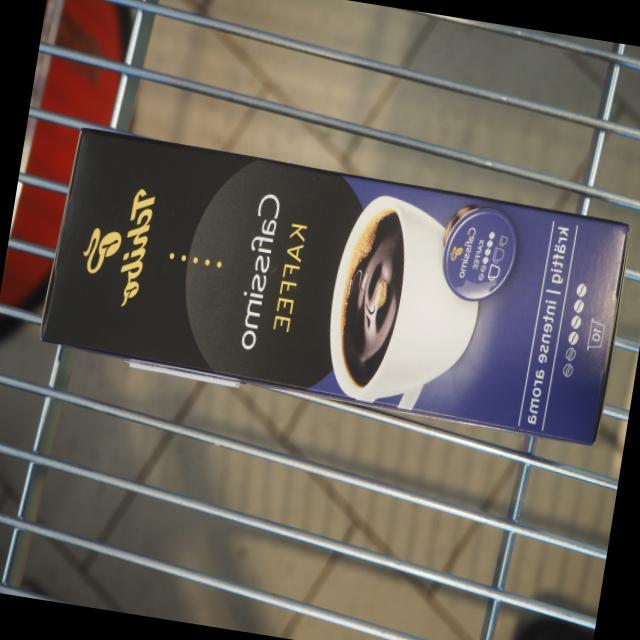Simo Kaffee Kraft: (35, 122, 636, 452)
